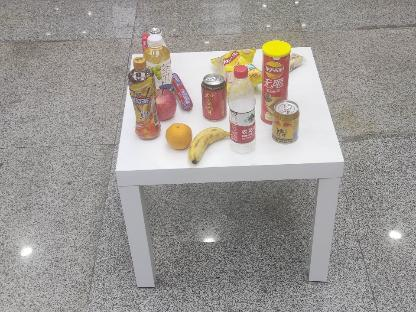Can: (199, 72, 226, 122), (272, 100, 300, 144)
Others: (258, 41, 292, 127)
Plastic Bottle: (225, 64, 259, 152)
